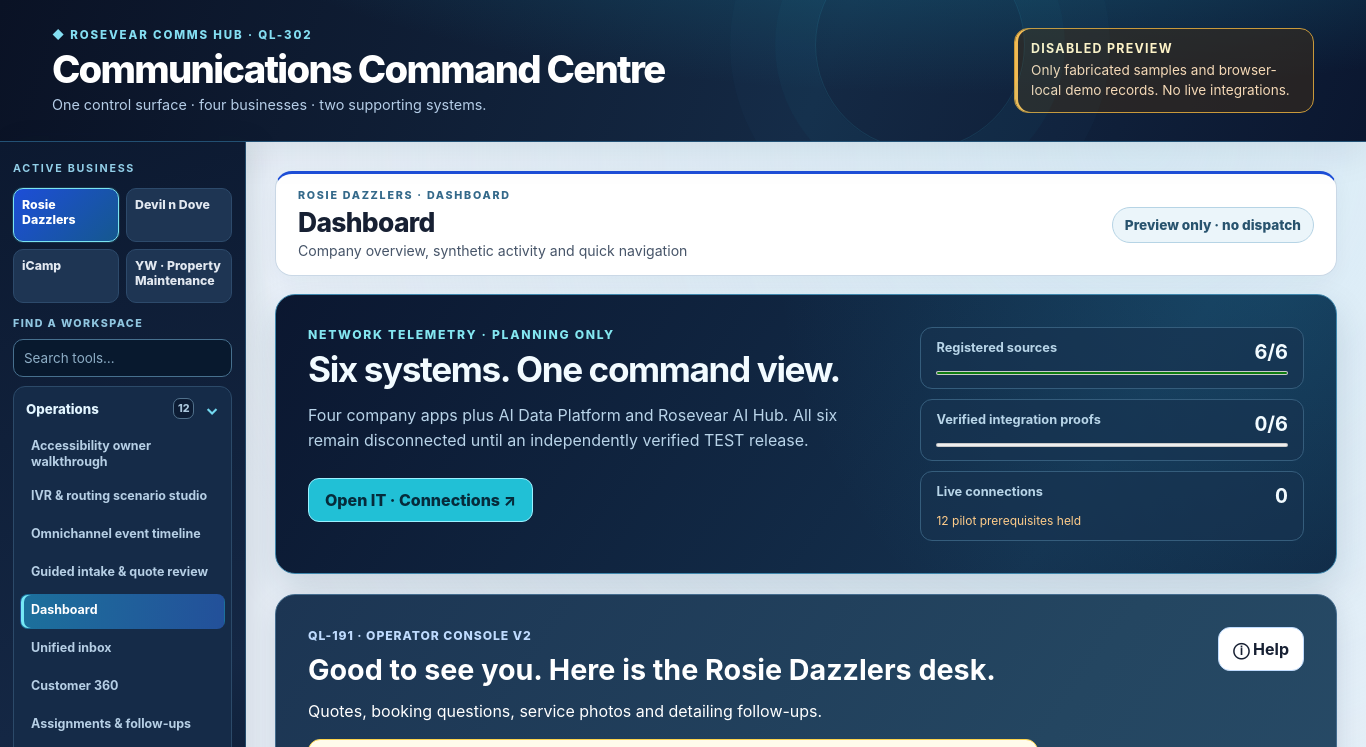
Test: QL-193 functional Customer 360 and inbox navigation › supports keyboard focus and responsive, forced-colour customer panels
Click the button "Customer 360".
click(122, 688)  # box [20,670,225,705]
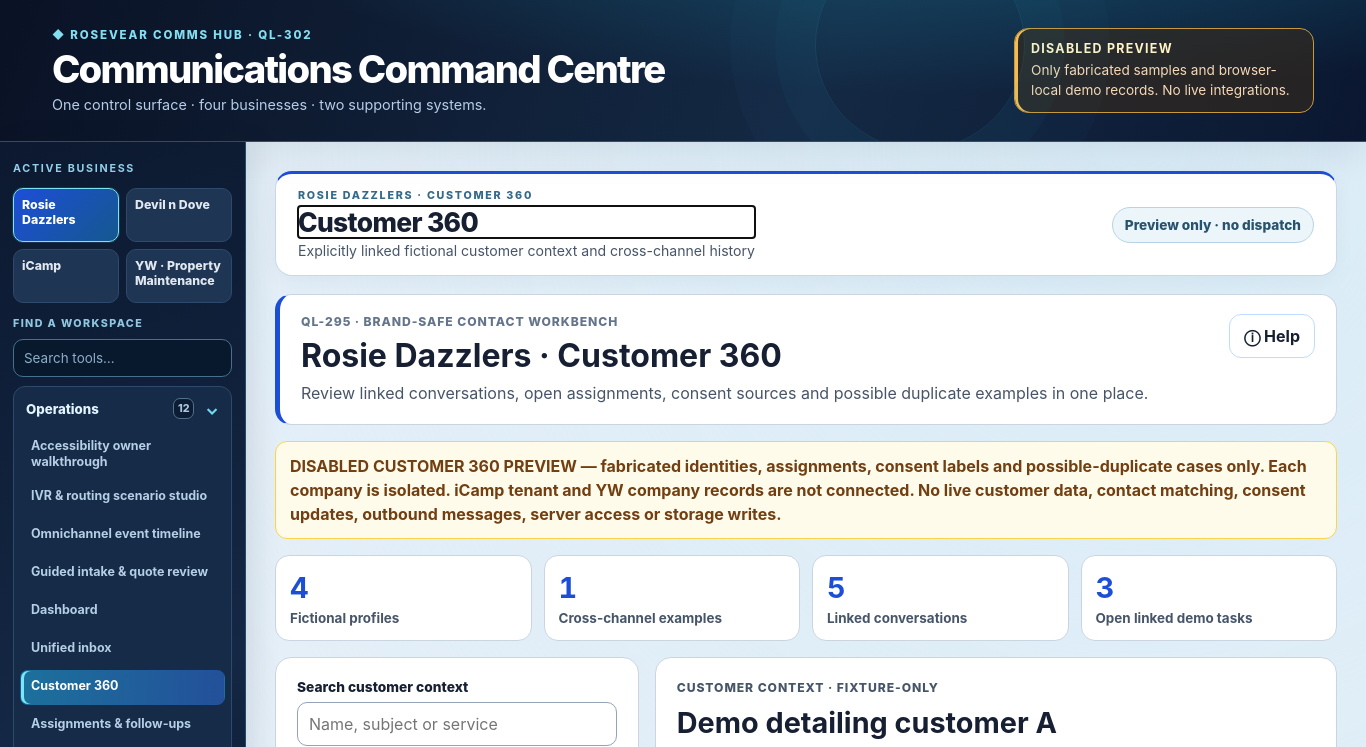
Now the label "Search customer context" is shown, box [297,680,468,696]
